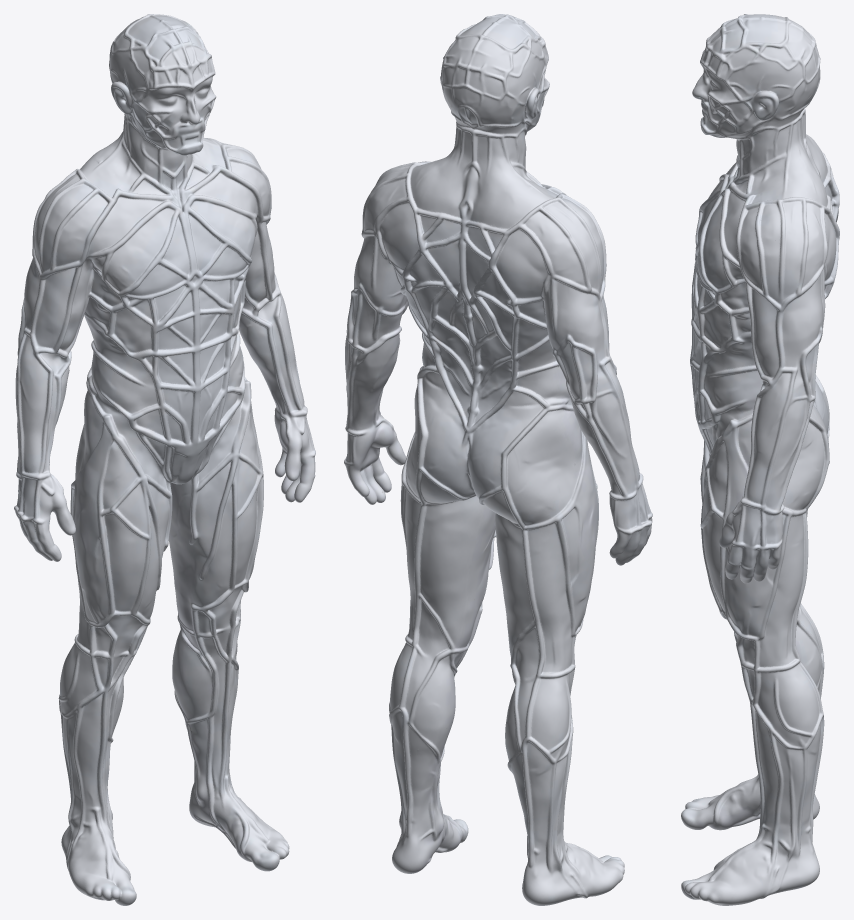
File: 16-los-hombres-iluminados-optimized.glb
3 renders of one model, left to right at view 1: azimuth 30°, elevation 25°; view 2: azimuth 150°, elevation 25°; view 3: azimuth 270°, elevation 25°, orthographic. The views are drawn at different scales.
Parts seen in each view (by area): view 1: tripo_node_d06d6a08-db0b-456b-8c22-fdfafa537449; view 2: tripo_node_d06d6a08-db0b-456b-8c22-fdfafa537449; view 3: tripo_node_d06d6a08-db0b-456b-8c22-fdfafa537449.
Part boxes in pixels (left/top/right/bottom): tripo_node_d06d6a08-db0b-456b-8c22-fdfafa537449: left=14, top=14, right=315, bottom=905; tripo_node_d06d6a08-db0b-456b-8c22-fdfafa537449: left=344, top=14, right=652, bottom=905; tripo_node_d06d6a08-db0b-456b-8c22-fdfafa537449: left=681, top=14, right=839, bottom=905.
Size of the model in its own units: 0.3609 by 1 by 0.17.
Materials: 1 (1 with a texture image).
